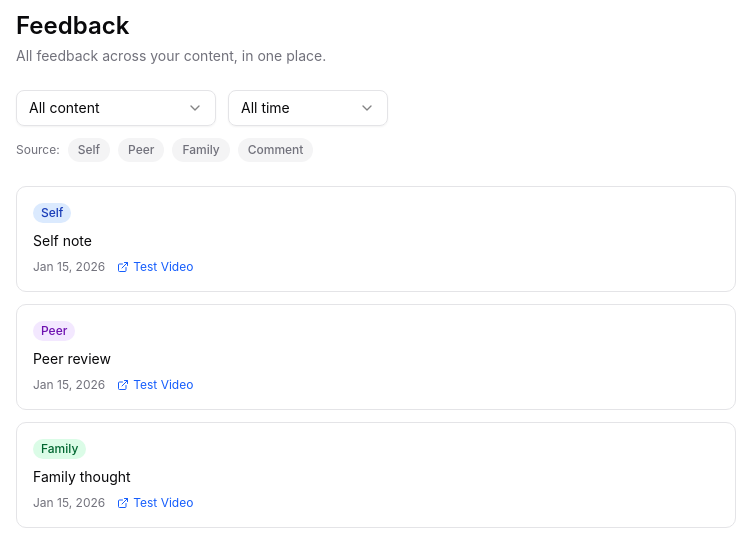
Test case: GlobalFeedbackPage › filtering › allows multi-select for source filters
The image size is (753, 545).
Note: Select both Self and Peer
What coordinates should you click on to do the following:
click the button with test id "source-filter-self"
I would click on:
 (89, 150)
Its box is [68,138,110,162].
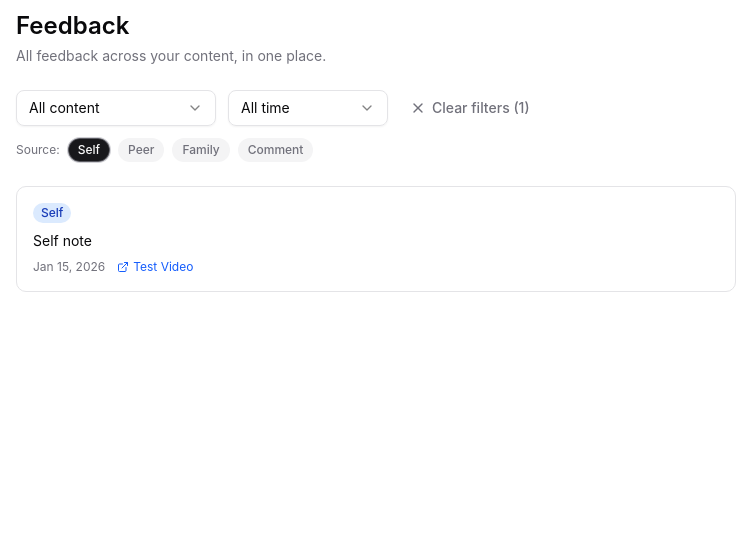
What coordinates should you click on to do the following:
click the button with test id "source-filter-peer"
I would click on:
 (141, 150)
Its box is [118,138,164,162].
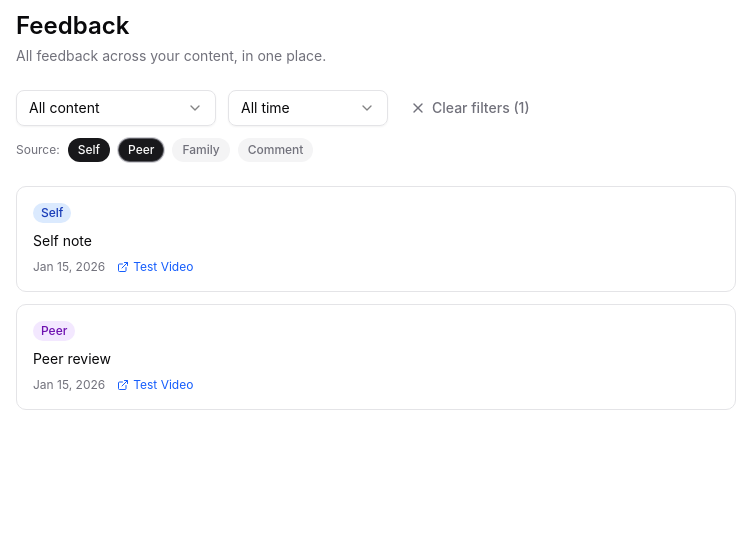
Expected: the text "Self note" is shown, [33,232,92,249]
Result: the text "Peer review" is shown at [33,350,111,367]
